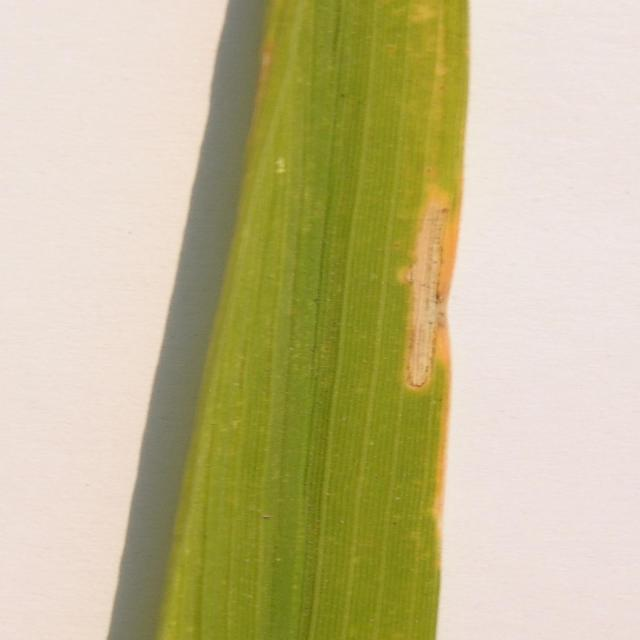Bacterial leaf blight: (125, 0, 503, 640)
